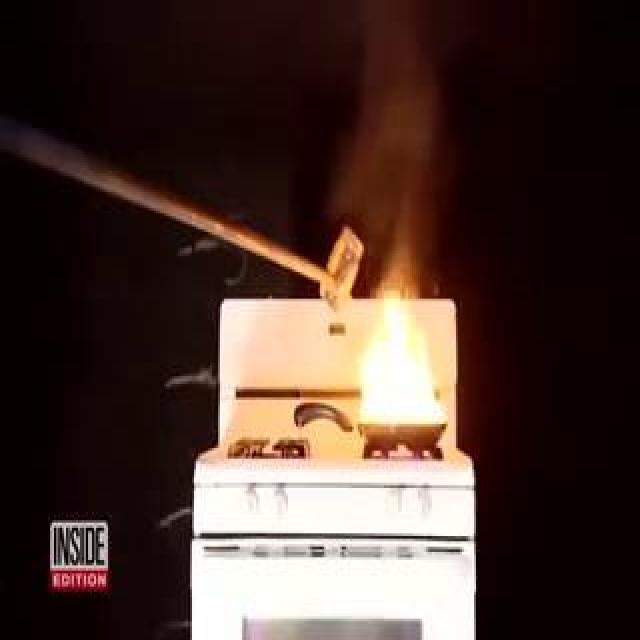Fire: (352, 204, 438, 439)
